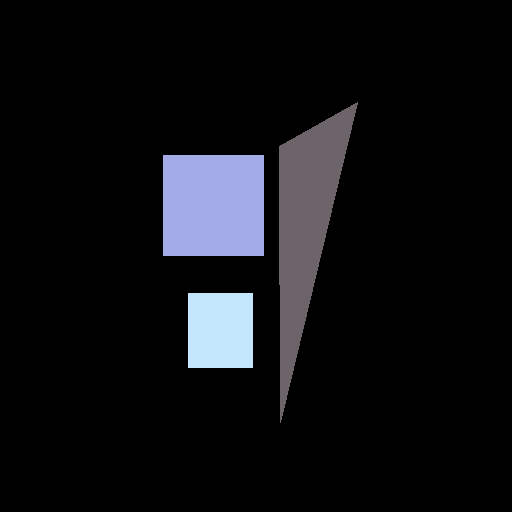rectangle: (188, 293, 252, 367)
square: (163, 155, 263, 255)
triangle: (279, 102, 357, 422)
